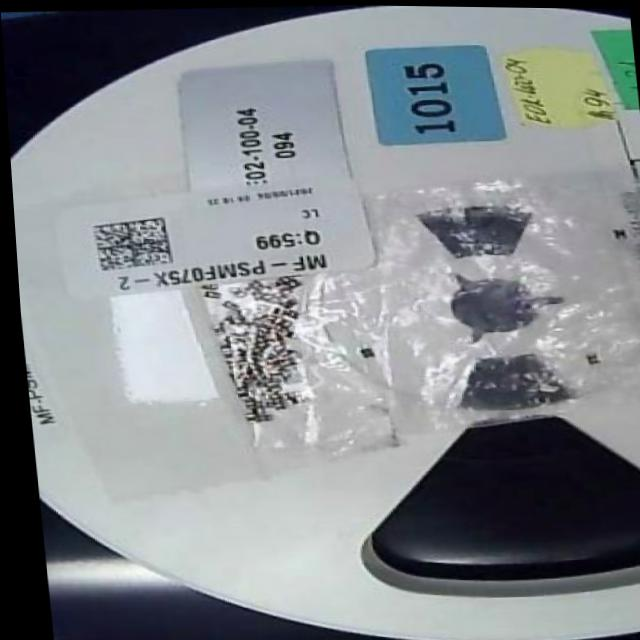datamatrix: (86, 213, 171, 272)
